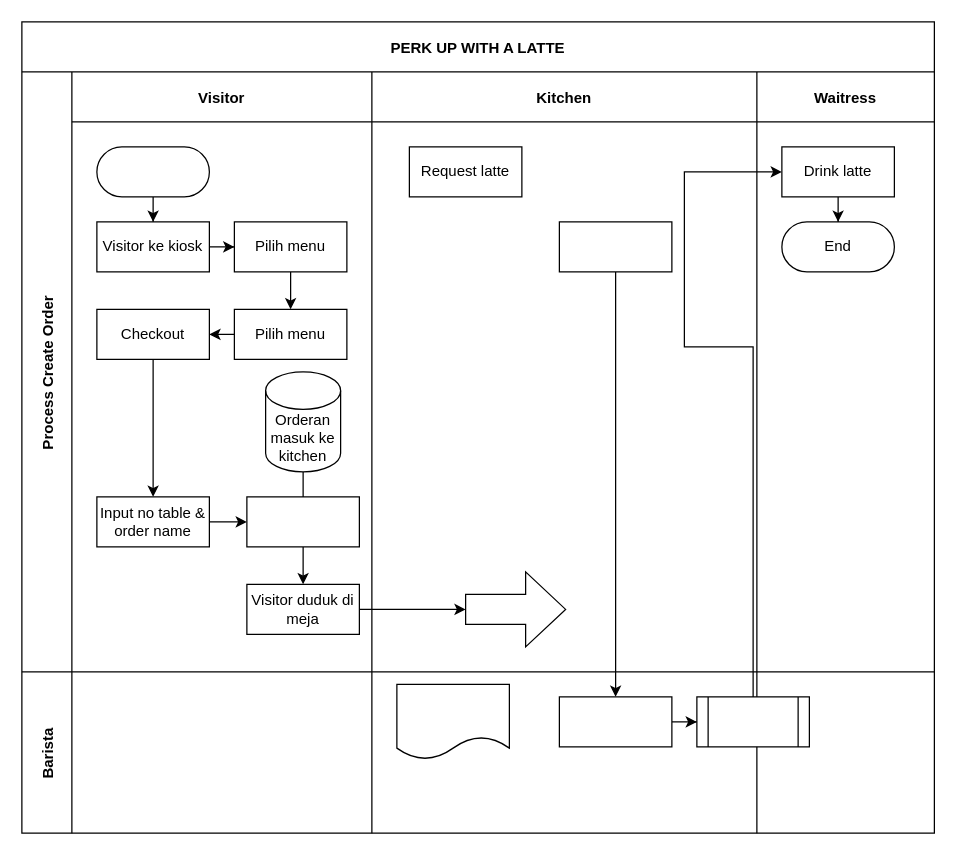
Some shapes in this 956 by 855 pixel diagram are drawn without their labels. Each missing label, with the box of its shape:
Accept payment: (558, 696, 672, 747)
Buy latte: (558, 221, 672, 272)
Make latte: (696, 696, 809, 747)
Payment: (246, 496, 359, 547)
Start: (96, 146, 209, 197)
Write details on cup: (396, 683, 509, 759)
